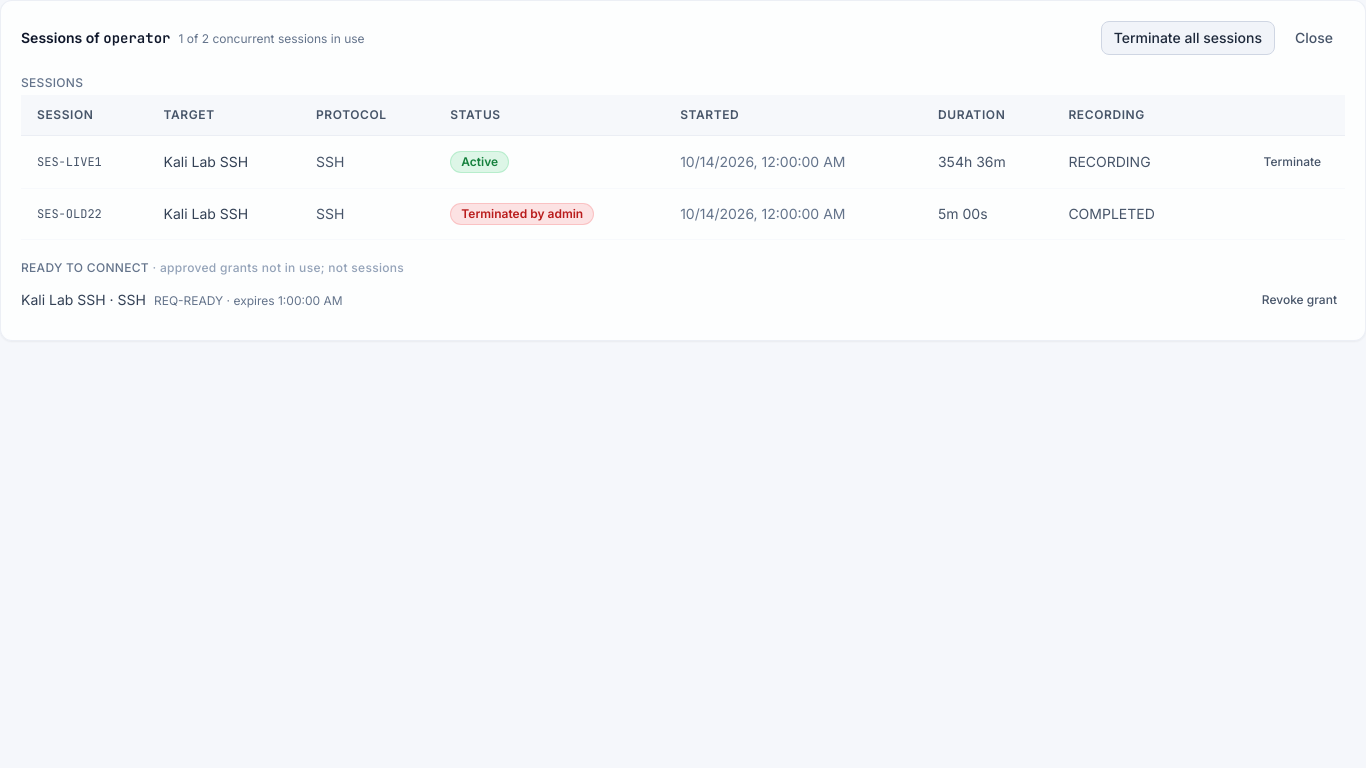
Test: UserSessionsPanel › reports a partial failure honestly and never says terminated
The width and height of the screenshot is (1366, 768).
Check: the text "SES-LIVE1" is shown, box [21,136,148,188]
Click the button "Terminate all sessions" at [1188, 38], box [1101,21,1275,55]
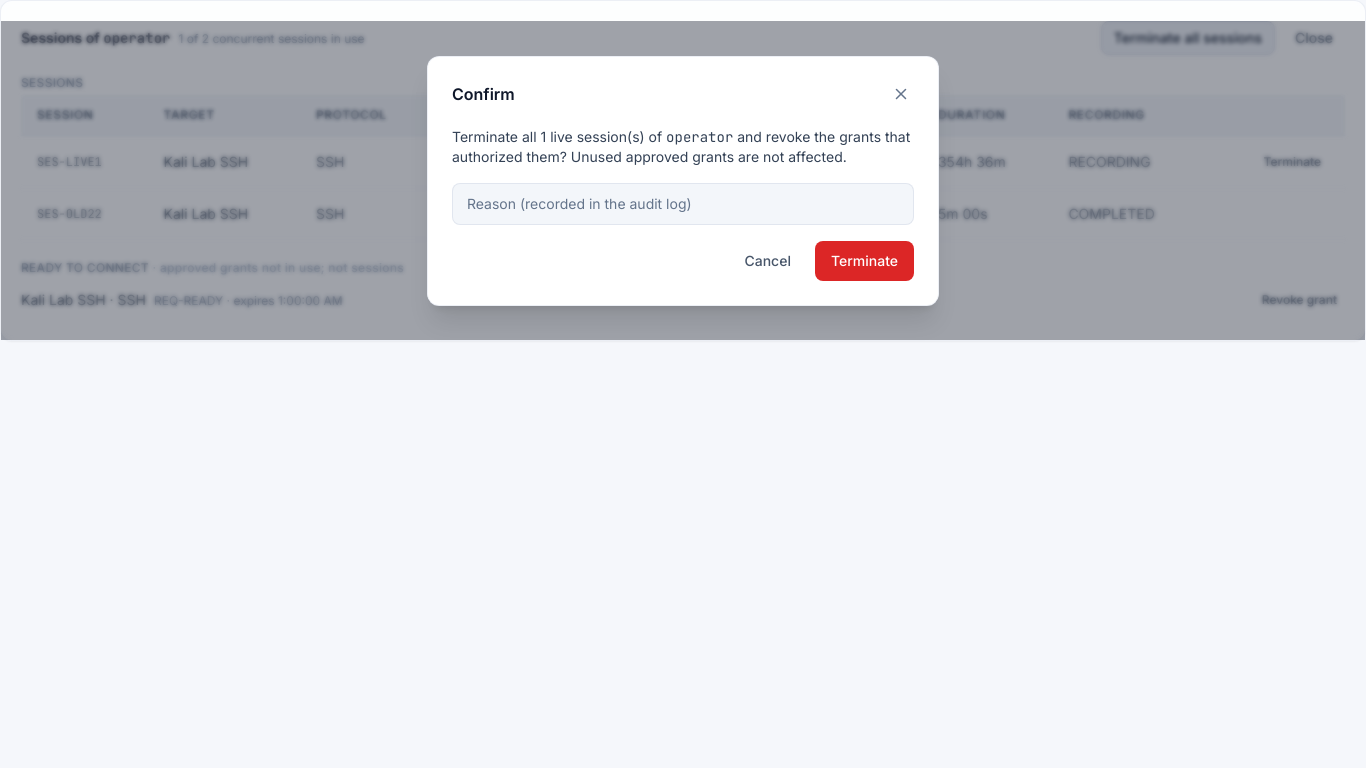
Click the button "Terminate" at [864, 260], box [815,240,914,280]
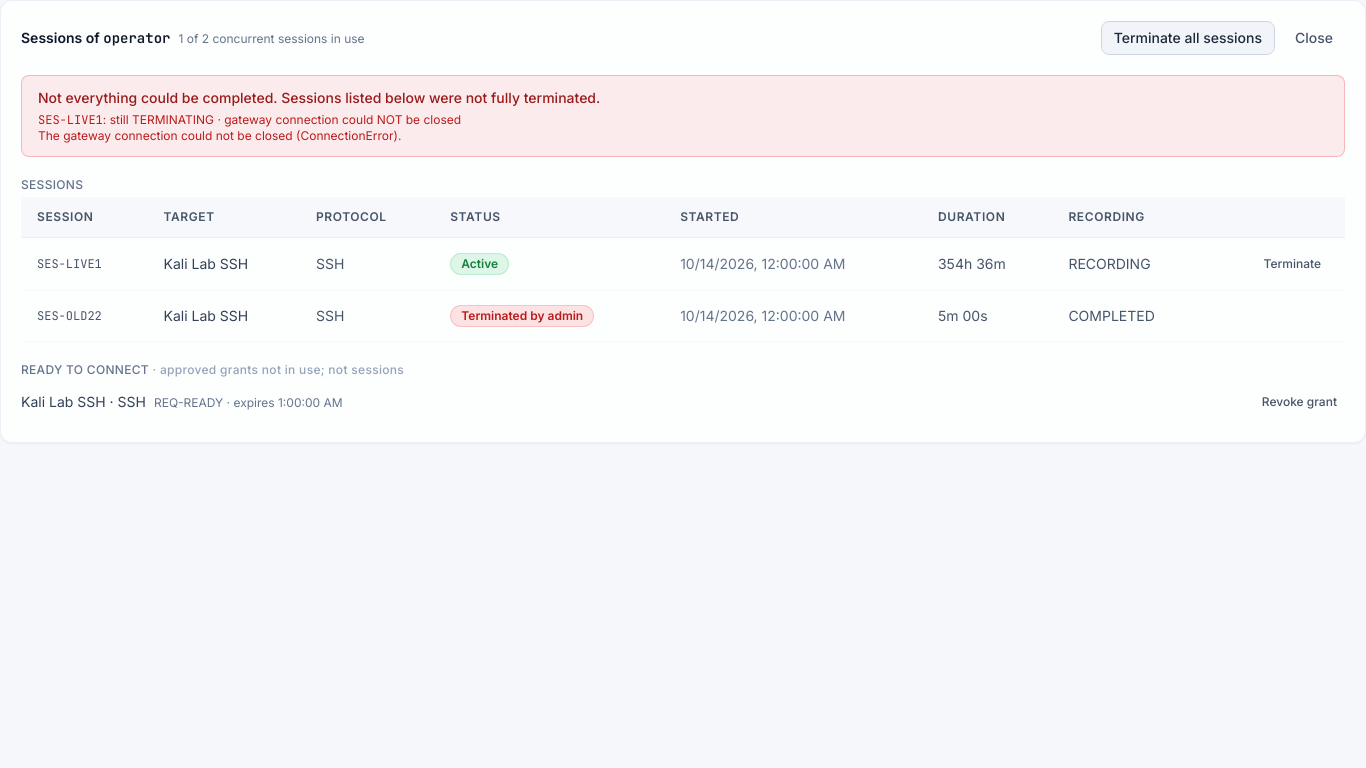
Check: the text "Not everything could be completed" is shown, box [38,89,600,106]
Check: the list item "still TERMINATING" is shown, box [110,112,214,127]
Check: the list item "could NOT be closed" is shown, box [224,112,461,127]
